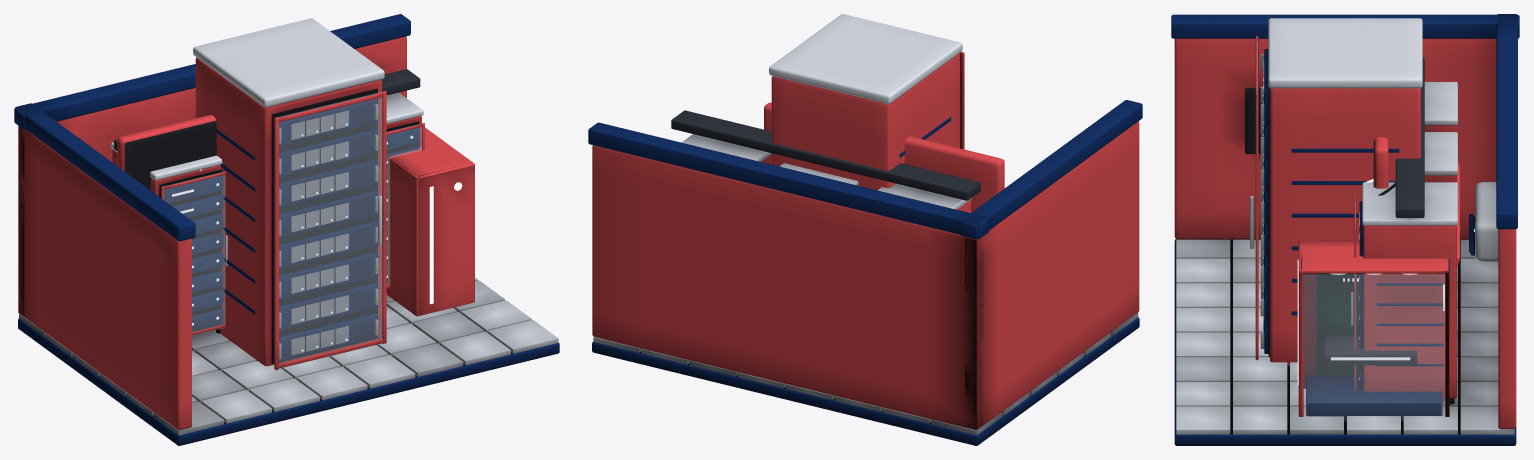
The model's file is buildings.glb.
The picture shows the model from 3 angles, left to right: view 1: azimuth 30°, elevation 25°; view 2: azimuth 150°, elevation 25°; view 3: azimuth 270°, elevation 25°; orthographic projection. The views are drawn at different scales.
Visible parts, largest first — view 1: serverroom_player, rack_glass, serverroom_player_dark, rack_player, rack_player_light, serverroom_player_light, computer_player, rack_player_dark, rack_rubber, serverroom_glass, serverroom_brushed, computer_screen (+5 smaller); view 2: serverroom_player, serverroom_player_dark, rack_player, rack_player_light, serverroom_dark_metal, serverroom_player_light, computer_player, serverroom_brushed; view 3: serverroom_player, serverroom_player_light, rack_player, computer_glass, serverroom_player_dark, rack_player_light, computer_player, serverroom_brushed, computer_player_dark, computer_pcb, rack_player_dark, serverroom_dark_metal (+6 smaller).
Boxes of the visible parts, box(x1,y1,x2,y2) form: serverroom_player: box(18, 36, 424, 430); rack_glass: box(279, 92, 382, 368); serverroom_player_dark: box(14, 14, 559, 445); rack_player: box(195, 57, 386, 369); rack_player_light: box(193, 18, 384, 355); serverroom_player_light: box(46, 92, 558, 423); computer_player: box(117, 114, 474, 316); rack_player_dark: box(216, 98, 378, 361); rack_rubber: box(271, 88, 377, 363); serverroom_glass: box(164, 123, 421, 335); serverroom_brushed: box(19, 280, 504, 435); computer_screen: box(131, 126, 216, 190); serverroom_player: box(592, 121, 1139, 429); serverroom_player_dark: box(588, 100, 1142, 445); rack_player: box(771, 52, 964, 190); rack_player_light: box(769, 14, 962, 103); serverroom_dark_metal: box(671, 110, 980, 200); serverroom_player_light: box(593, 134, 1111, 423); computer_player: box(764, 102, 1004, 212); serverroom_brushed: box(689, 313, 1138, 435); serverroom_player: box(1174, 38, 1516, 429); serverroom_player_light: box(1176, 82, 1514, 434); rack_player: box(1255, 36, 1420, 366); computer_glass: box(1303, 274, 1444, 420); serverroom_player_dark: box(1171, 14, 1519, 445); rack_player_light: box(1263, 18, 1422, 331); computer_player: box(1298, 137, 1449, 416); serverroom_brushed: box(1176, 239, 1498, 434); computer_player_dark: box(1306, 259, 1449, 420); computer_pcb: box(1316, 273, 1359, 375); rack_player_dark: box(1264, 49, 1399, 353); serverroom_dark_metal: box(1395, 57, 1424, 217).
Bounding box in the file's own units: 1.32 × 0.92 × 0.97.
